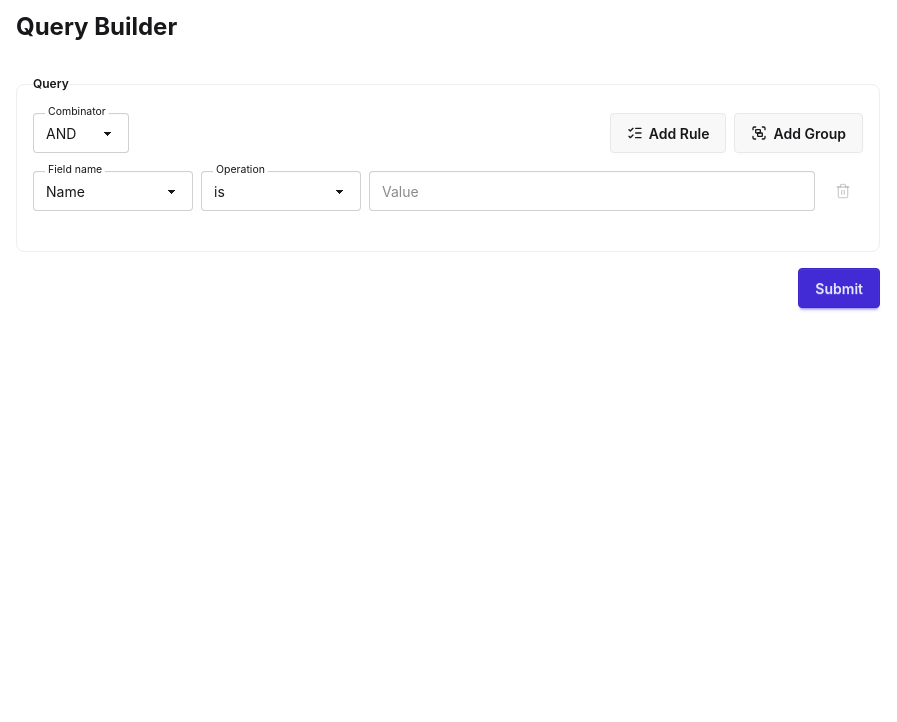
Test case: submitting the query › shows the status code when the server rejects the request
The image size is (897, 722).
Type "john" into the field labelled "Value" at (592, 191), box [369,171,815,211]
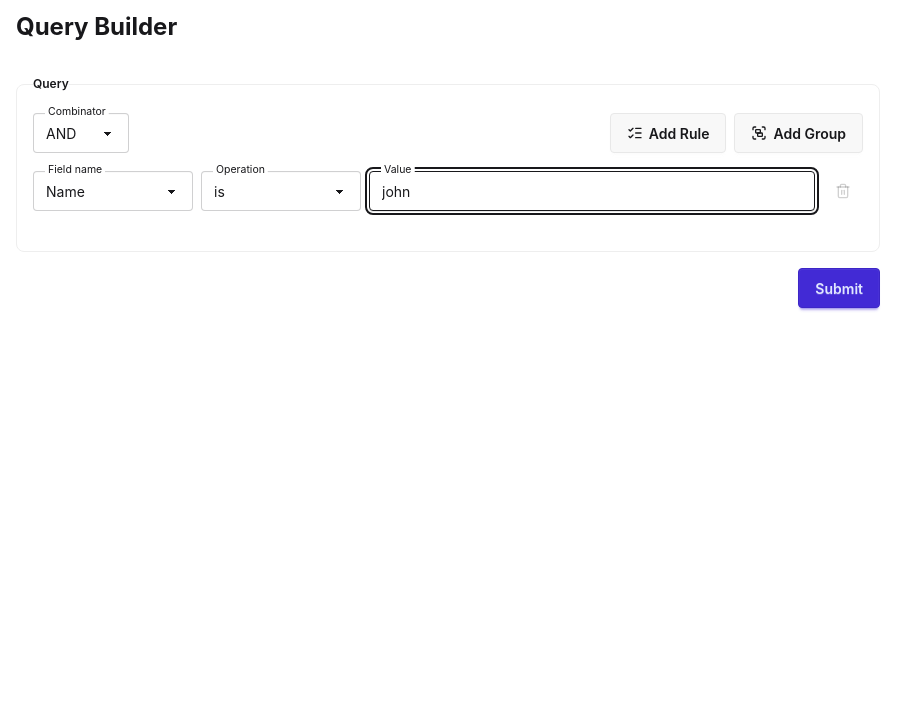
Click the button "Submit" at (839, 288), box [798,268,880,308]
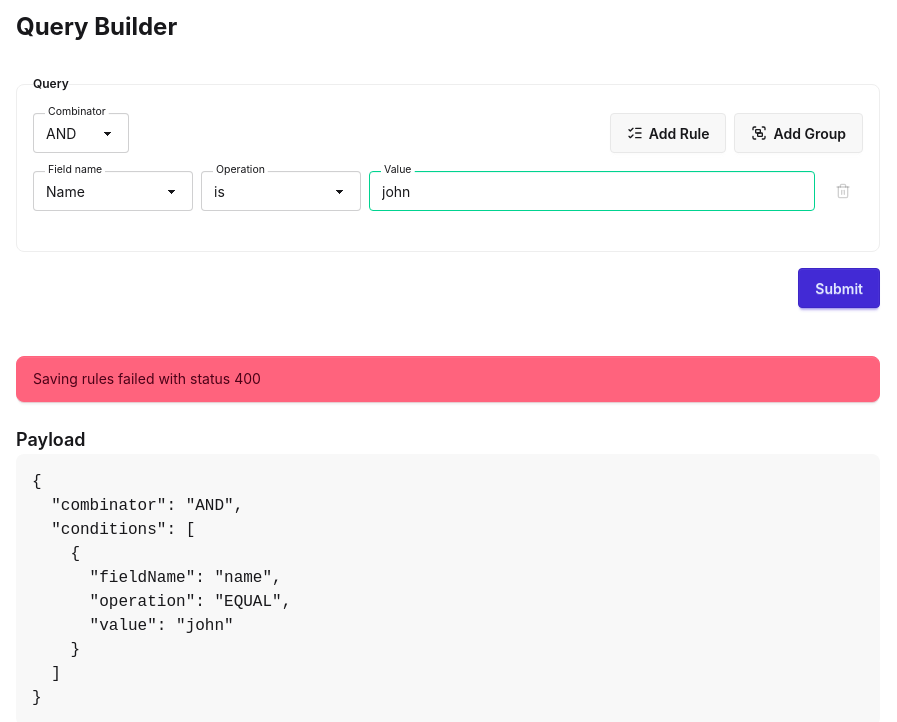
Expected: the message reads "Saving rules failed with status 400", [33,370,261,387]
